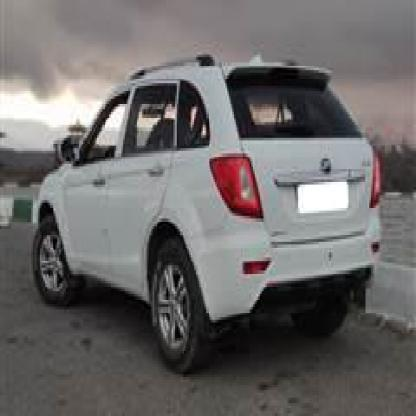Car: (26, 39, 373, 367)
